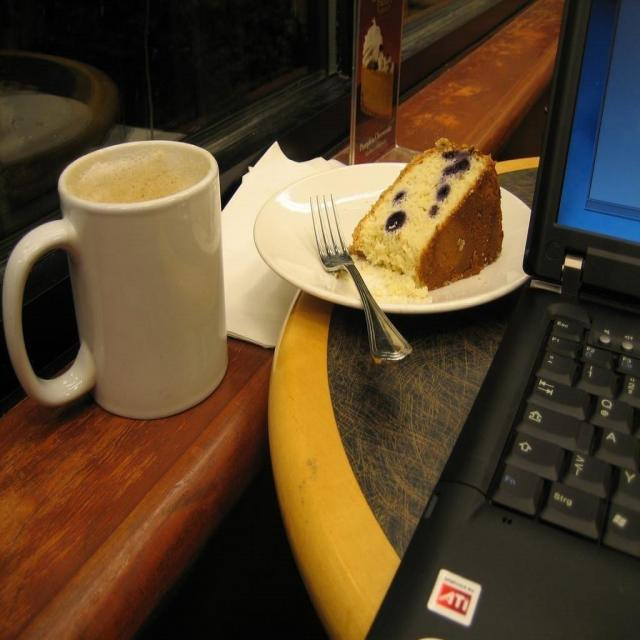cup-handle: (0, 138, 230, 421)
